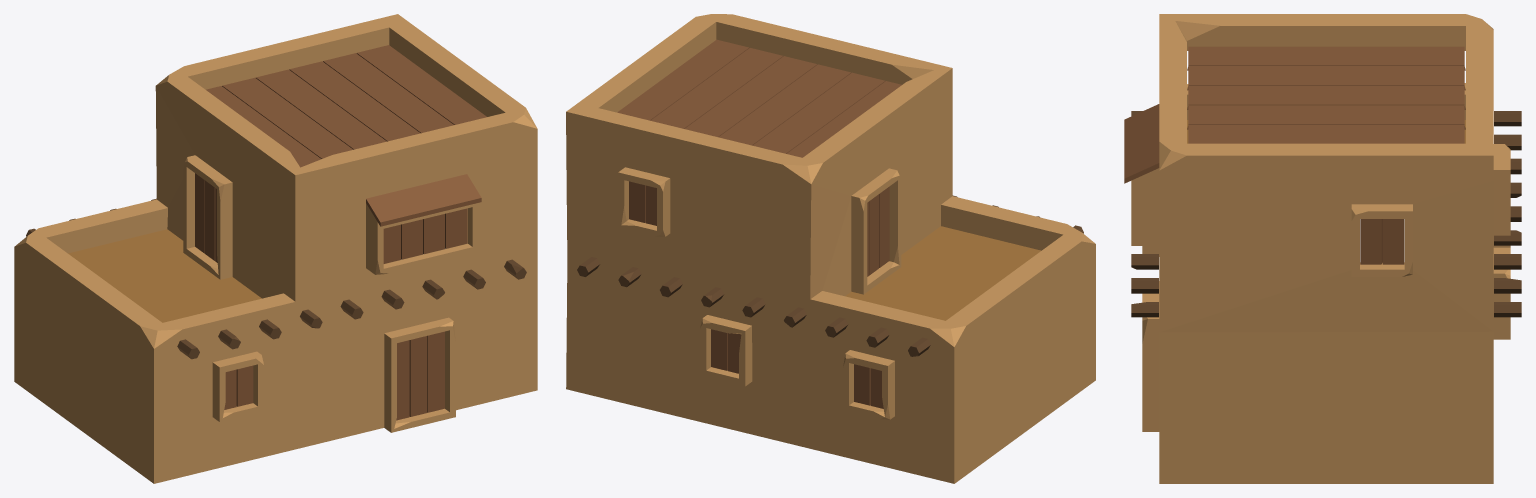
The model's file is egypt-house-egypt-big.glb.
3 renders of one model, left to right at view 1: azimuth 30°, elevation 25°; view 2: azimuth 150°, elevation 25°; view 3: azimuth 270°, elevation 25°, orthographic. The views are drawn at different scales.
Visible parts, largest first — view 1: house-egypt-big; view 2: house-egypt-big; view 3: house-egypt-big.
Boxes of the visible parts, box(x1,y1,x2,y2) form: house-egypt-big: box(14, 14, 537, 483); house-egypt-big: box(566, 14, 1095, 483); house-egypt-big: box(1124, 14, 1521, 483).
Size of the model in its own units: 9.82 by 6.5 by 7.13.
